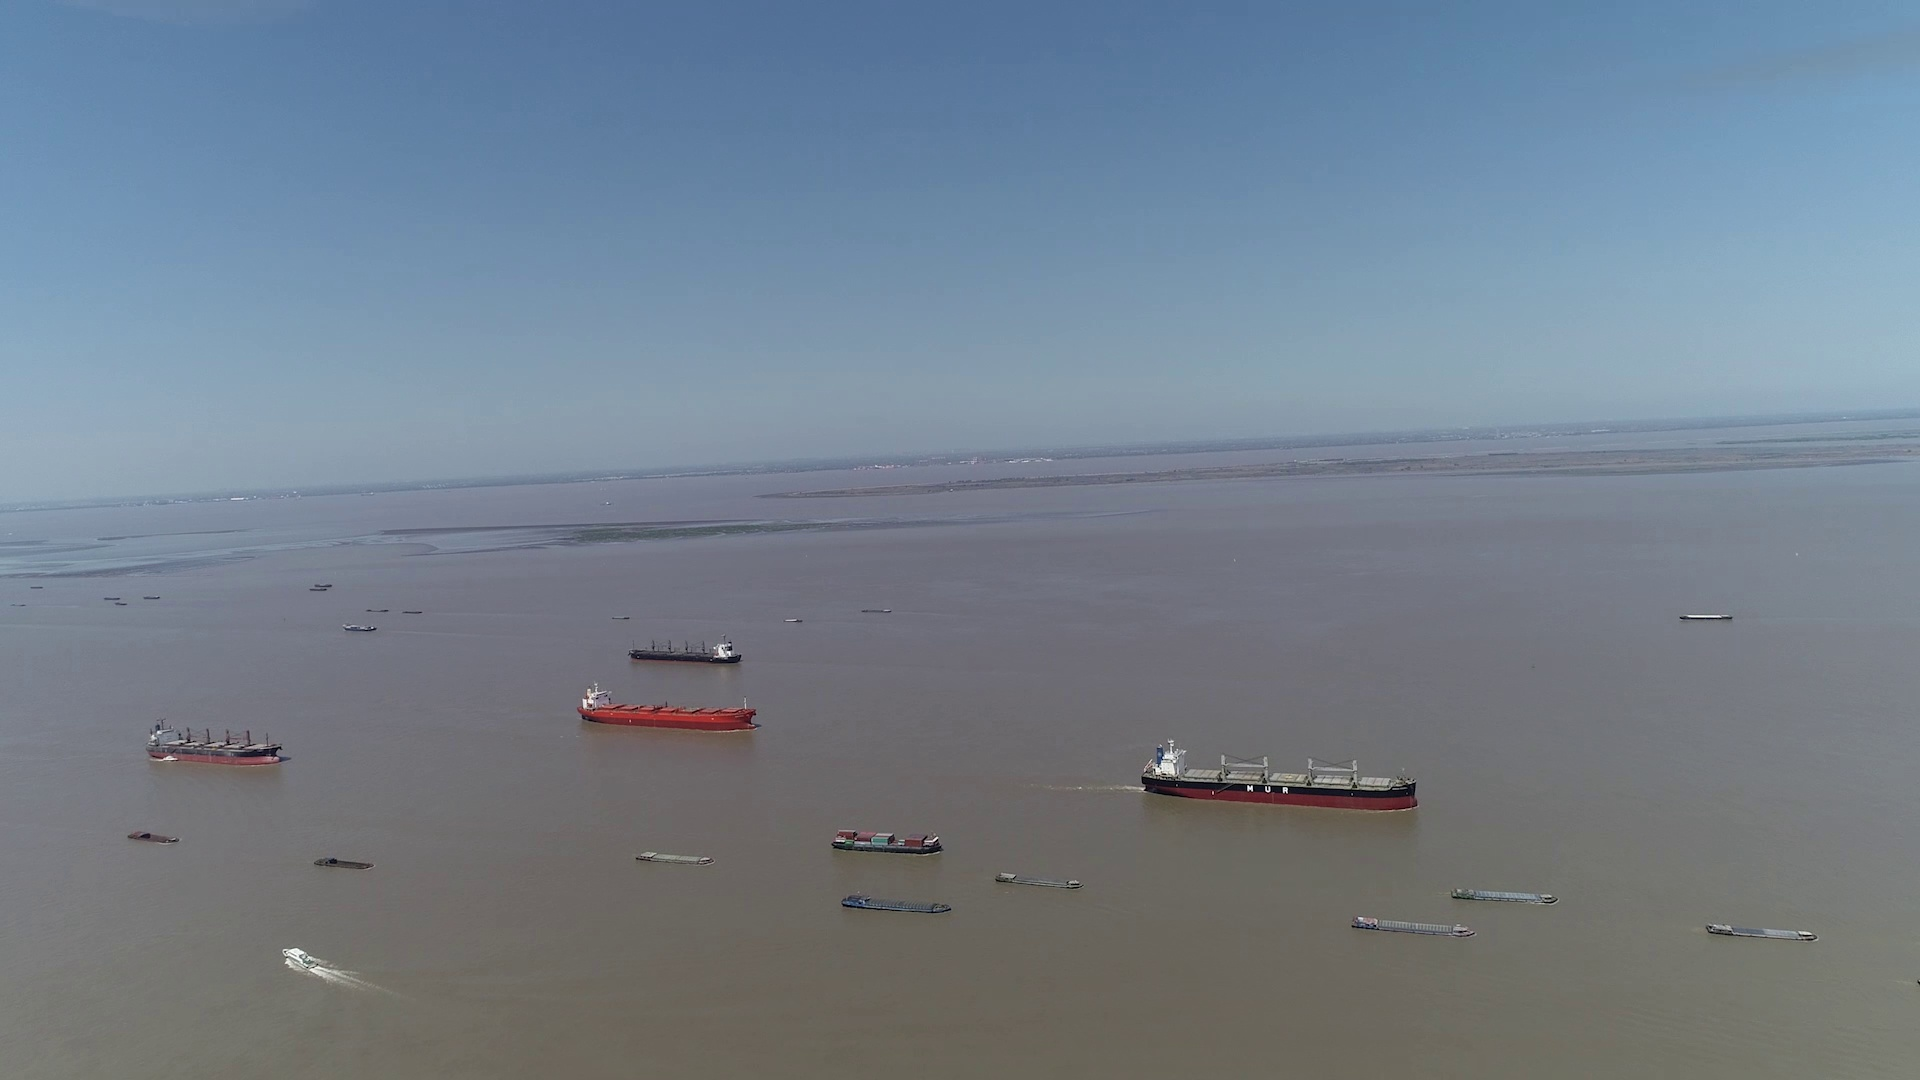ship: (1139, 740, 1420, 811), (579, 684, 753, 732), (152, 717, 285, 765), (831, 827, 944, 855), (626, 638, 740, 665), (1353, 914, 1476, 938), (1705, 922, 1817, 942), (840, 894, 952, 914), (1451, 886, 1556, 905), (994, 872, 1087, 890), (636, 851, 712, 865), (316, 858, 375, 872), (127, 829, 179, 844), (282, 947, 314, 967), (1681, 612, 1730, 621), (340, 622, 376, 632)
